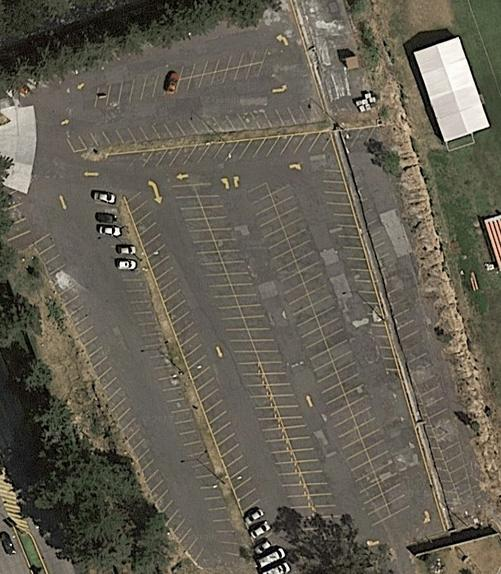parkingspot: (127, 189, 292, 574), (90, 189, 249, 559), (32, 233, 205, 564), (170, 185, 321, 532), (245, 183, 391, 528), (193, 183, 343, 518), (271, 185, 413, 517), (386, 286, 484, 508), (321, 170, 399, 371), (66, 103, 321, 153), (125, 131, 332, 173), (95, 66, 183, 109), (179, 47, 269, 80), (175, 62, 263, 93), (6, 191, 35, 252), (350, 126, 376, 149)
